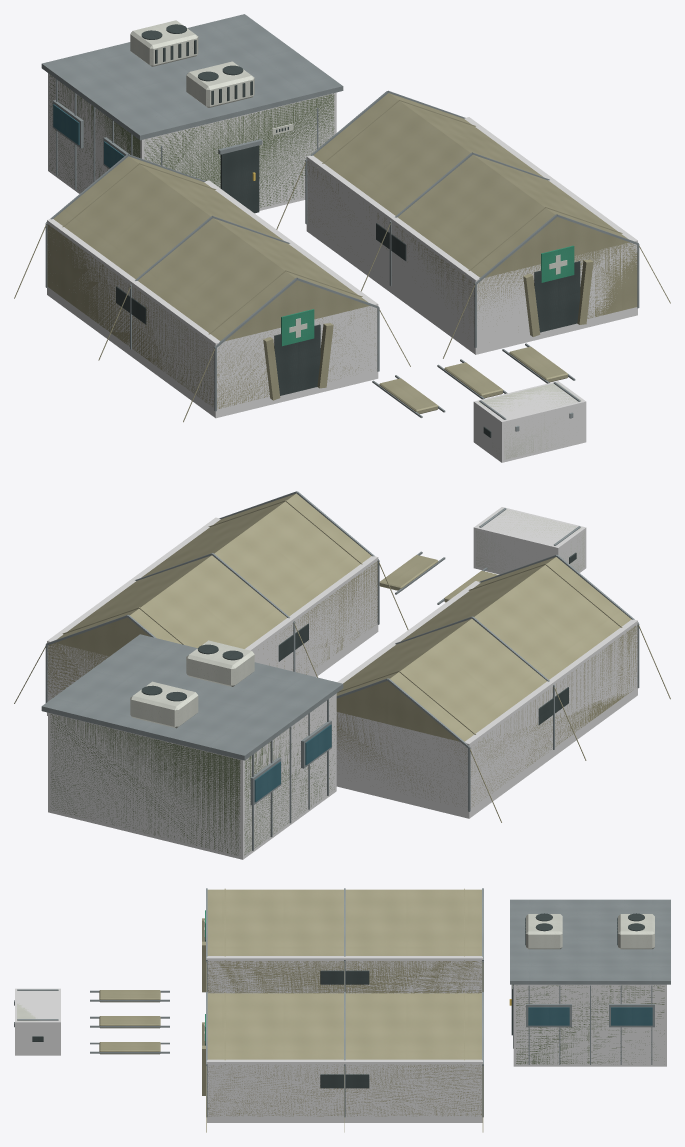
File: ForwardAidStation.fbx
3 renders of one model, top to bottom at view 1: azimuth 30°, elevation 25°; view 2: azimuth 150°, elevation 25°; view 3: azimuth 270°, elevation 25°, orthographic. The views are drawn at different scales.
Visible parts, largest first — view 1: LOD0, COL_Static; view 2: LOD0, COL_Static; view 3: LOD0, COL_Static.
Boxes of the visible parts, left/top/right/bottom form: LOD0: left=14, top=14, right=670, bottom=459; COL_Static: left=47, top=73, right=637, bottom=462; LOD0: left=14, top=491, right=670, bottom=855; COL_Static: left=47, top=507, right=637, bottom=859; LOD0: left=14, top=888, right=670, bottom=1132; COL_Static: left=15, top=956, right=666, bottom=1122.
Size of what is drawn, in the model's own units: 1502 by 420 by 2141.
